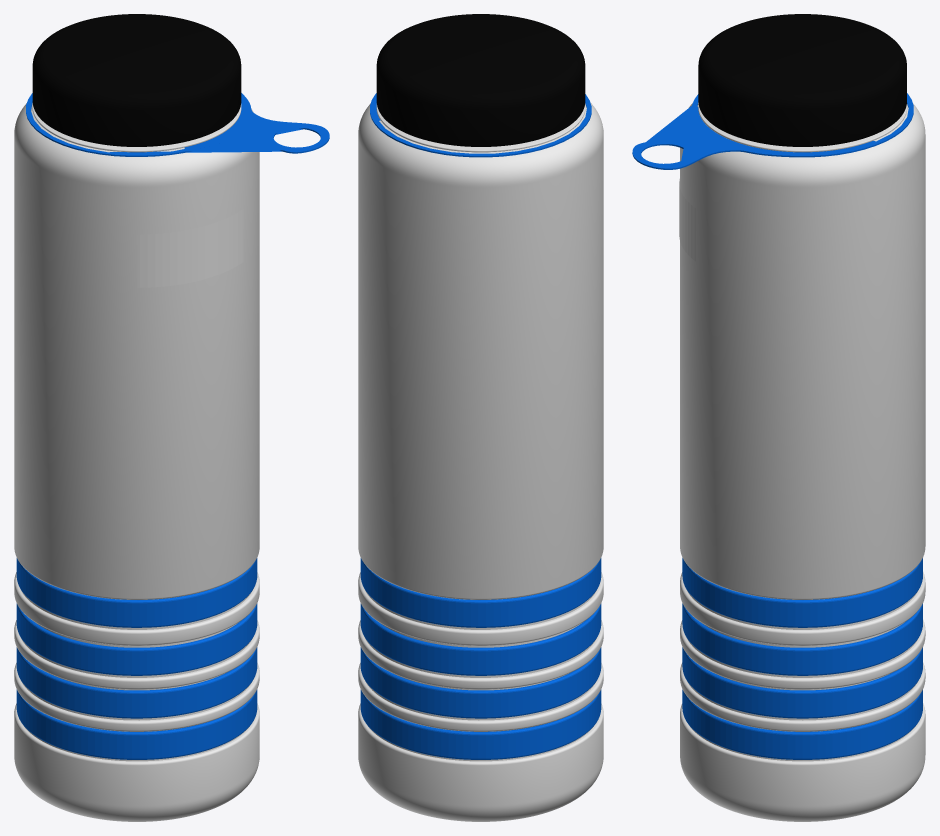
Rendered from bottle.fbx.
3 views of the same model, side by side, from view 1: azimuth 30°, elevation 25°; view 2: azimuth 150°, elevation 25°; view 3: azimuth 270°, elevation 25° (orthographic).
Parts seen in each view (by area): view 1: Bottle, Blue bands, bottle cap, spar logo, Bottle handle, water; view 2: Bottle, Blue bands, bottle cap, water, Bottle handle; view 3: Bottle, Blue bands, bottle cap, Bottle handle, water, spar logo.
Boxes of the visible parts, x1,y1,x2,y2 form: Bottle: [14, 103, 259, 821]; Blue bands: [16, 558, 257, 759]; bottle cap: [32, 14, 241, 146]; spar logo: [137, 209, 243, 287]; Bottle handle: [26, 93, 329, 156]; water: [21, 590, 252, 761]; Bottle: [358, 102, 603, 821]; Blue bands: [360, 558, 601, 759]; bottle cap: [376, 14, 585, 146]; water: [365, 590, 596, 761]; Bottle handle: [370, 93, 591, 157]; Bottle: [680, 102, 925, 821]; Blue bands: [682, 558, 922, 759]; bottle cap: [698, 14, 906, 146]; Bottle handle: [632, 93, 913, 169]; water: [687, 590, 918, 761]; spar logo: [679, 179, 695, 261].
Size of the model in its own units: 11.83 by 35.94 by 13.16.
